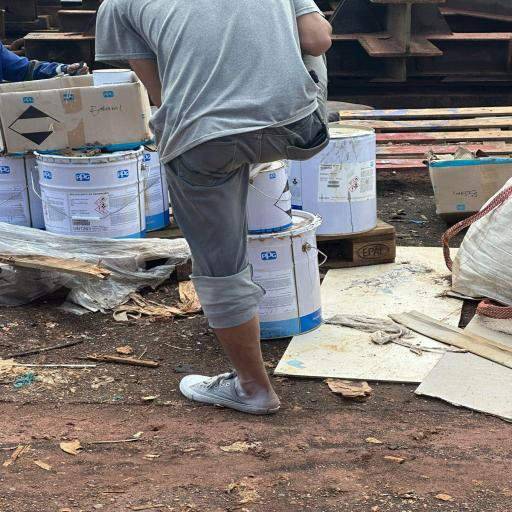not_safety_shoe: (175, 367, 291, 421)
